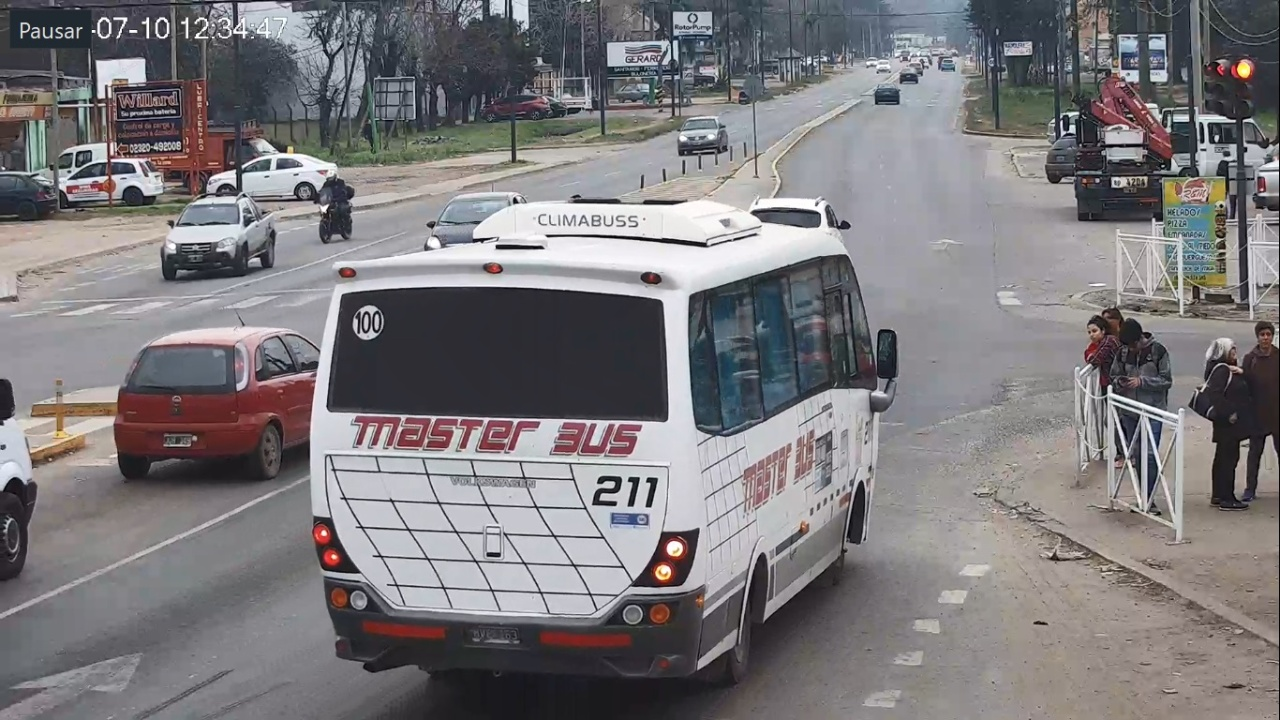bus: (310, 199, 900, 686)
car: (113, 326, 320, 480)
traffic light: (1234, 57, 1254, 117)
